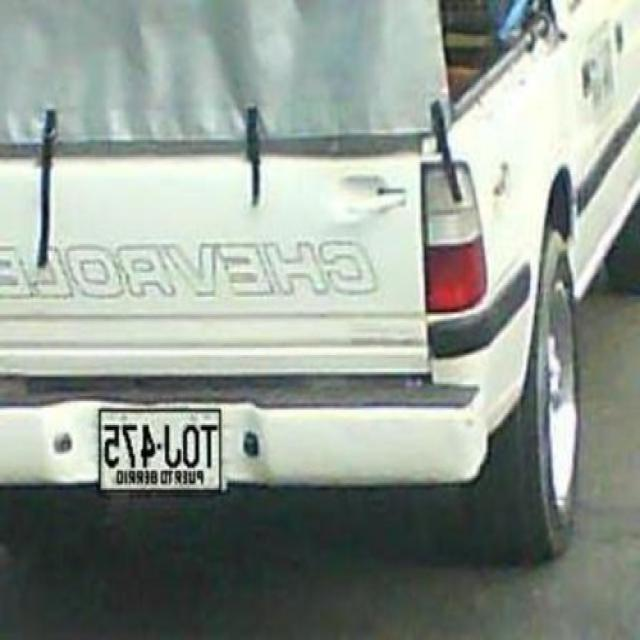placas: (97, 411, 220, 468)
